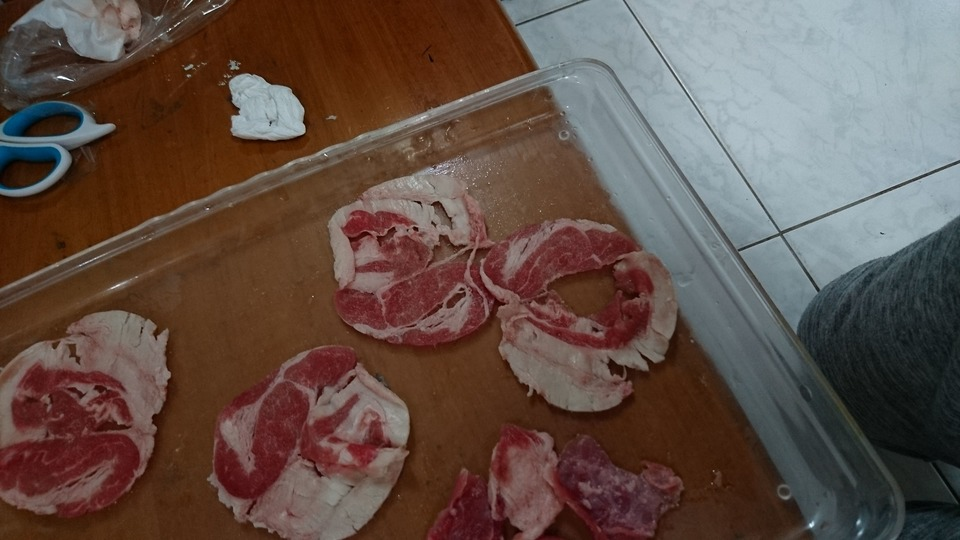restructured meat: (207, 340, 414, 540), (1, 307, 180, 525), (486, 212, 677, 413), (311, 170, 491, 354), (428, 420, 686, 540)
